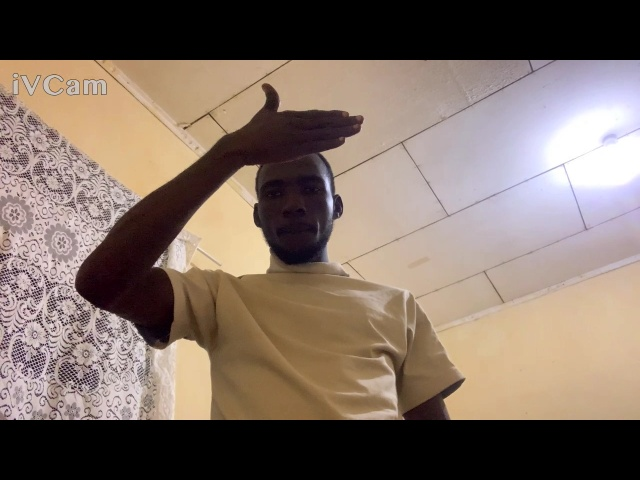je ne sais pas: (208, 73, 374, 178)
